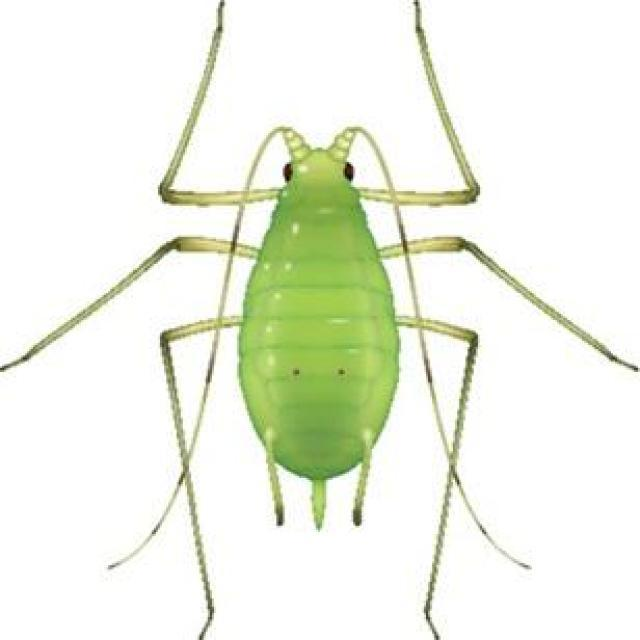aphid: (64, 54, 609, 615)
